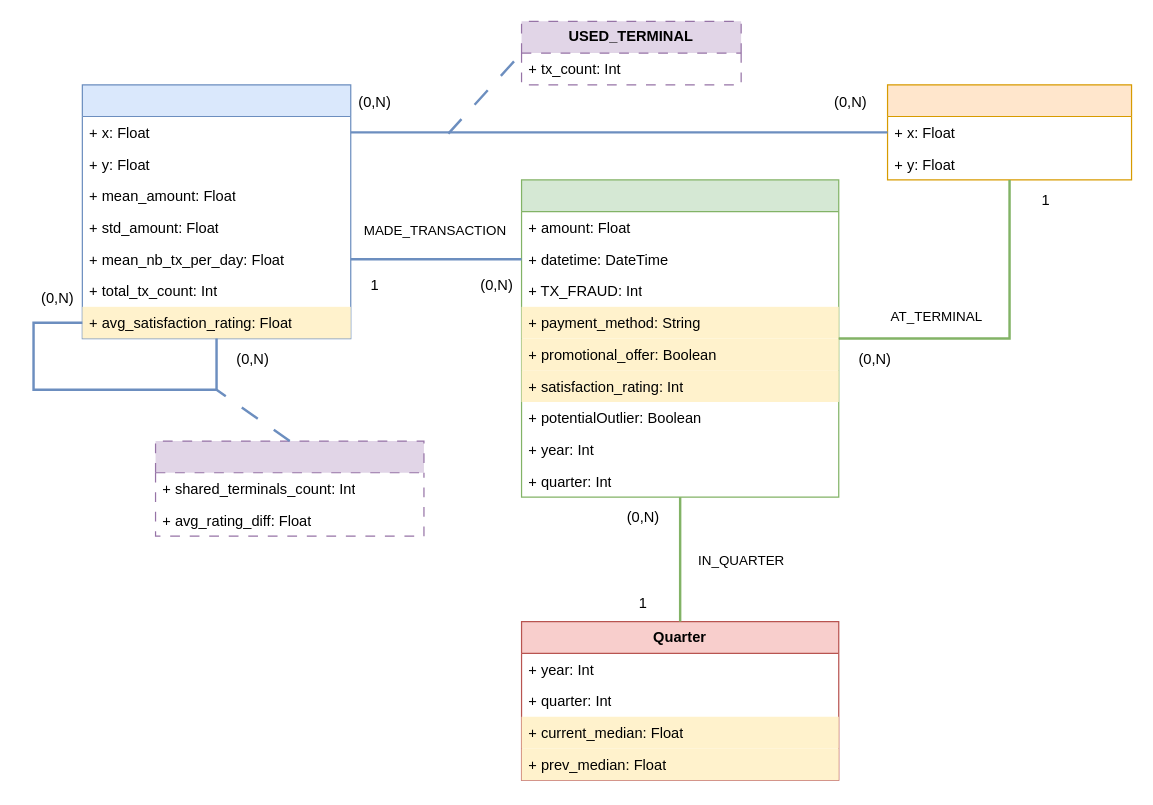
Some shapes in this 1153 by 805 pixel diagram are drawn without their labels. The shapes that lost their labels are listed below. From the top down, each one's box as (x1, y1, x2, y2) in pixels, then its label:
(886, 84, 1132, 180): Terminal
(81, 84, 351, 339): Customer
(520, 179, 839, 497): Transaction
(154, 440, 424, 536): FREQUENT_COLLABORATOR
